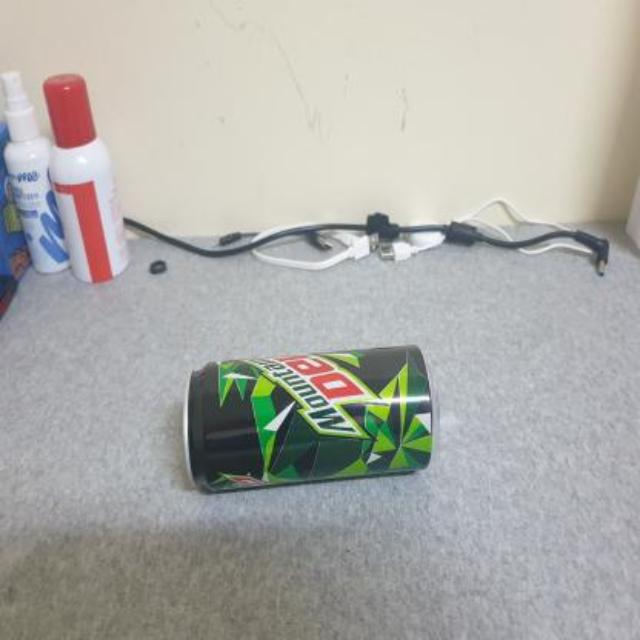metal: (183, 345, 431, 489)
